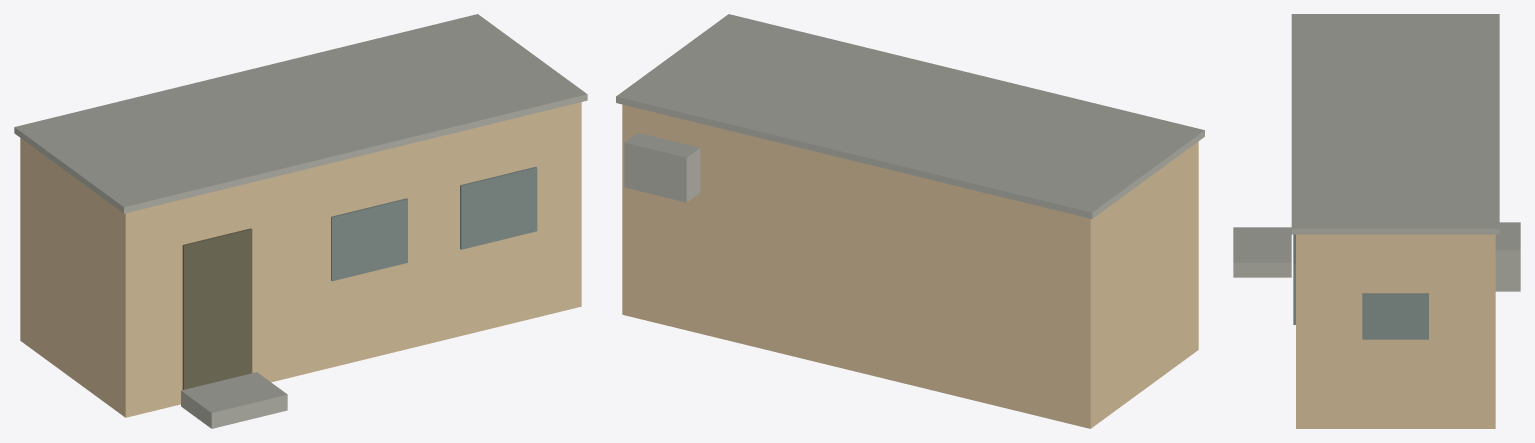
File: SM_Caseta_v0_Oficina_LOD0.fbx
The picture shows the model from 3 angles, left to right: view 1: azimuth 30°, elevation 25°; view 2: azimuth 150°, elevation 25°; view 3: azimuth 270°, elevation 25°; orthographic projection. The views are drawn at different scales.
Visible parts, largest first — view 1: SM_ambiente_aerodromo_v10_LOD0; view 2: SM_ambiente_aerodromo_v10_LOD0; view 3: SM_ambiente_aerodromo_v10_LOD0.
Boxes of the visible parts, x1=… form: SM_ambiente_aerodromo_v10_LOD0: x1=14, y1=14, x2=587, y2=428; SM_ambiente_aerodromo_v10_LOD0: x1=616, y1=14, x2=1204, y2=428; SM_ambiente_aerodromo_v10_LOD0: x1=1233, y1=14, x2=1520, y2=428.
Size of the model in its own units: 6.1 by 2.68 by 3.45.
